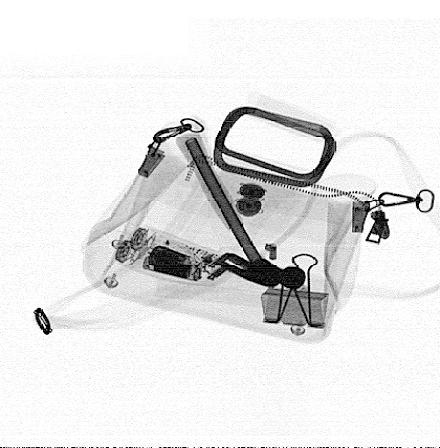Hammer: (174, 131, 307, 291)
